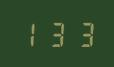one: (18, 20, 42, 47)
three: (44, 20, 68, 47), (69, 20, 93, 47)
